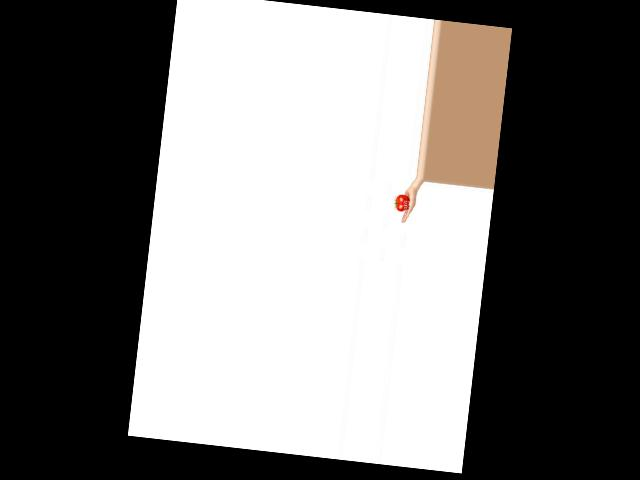tomato: (394, 194, 410, 212)
